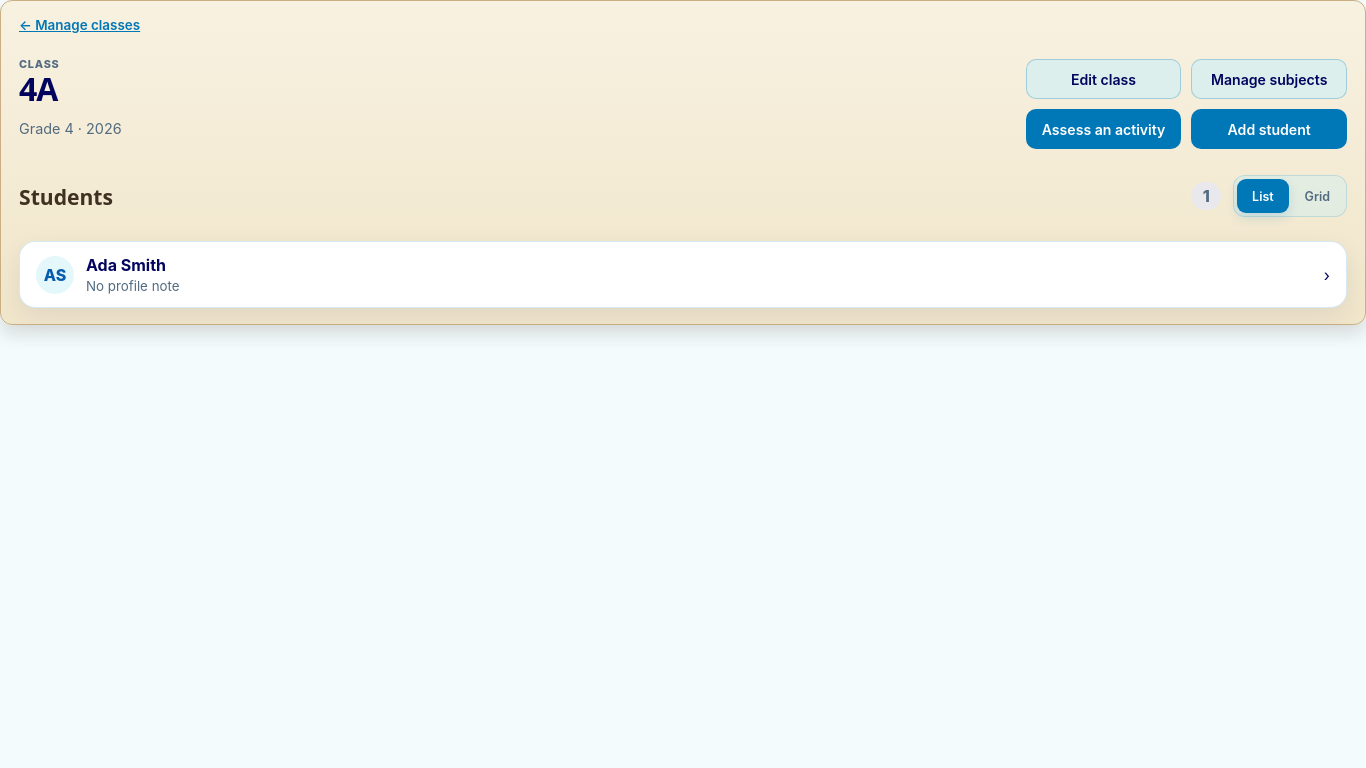
Test: edits from the class detail page and preserves the roster and class links
Click the button "Edit class". click: (1104, 79)
box: [1026,59,1181,99]
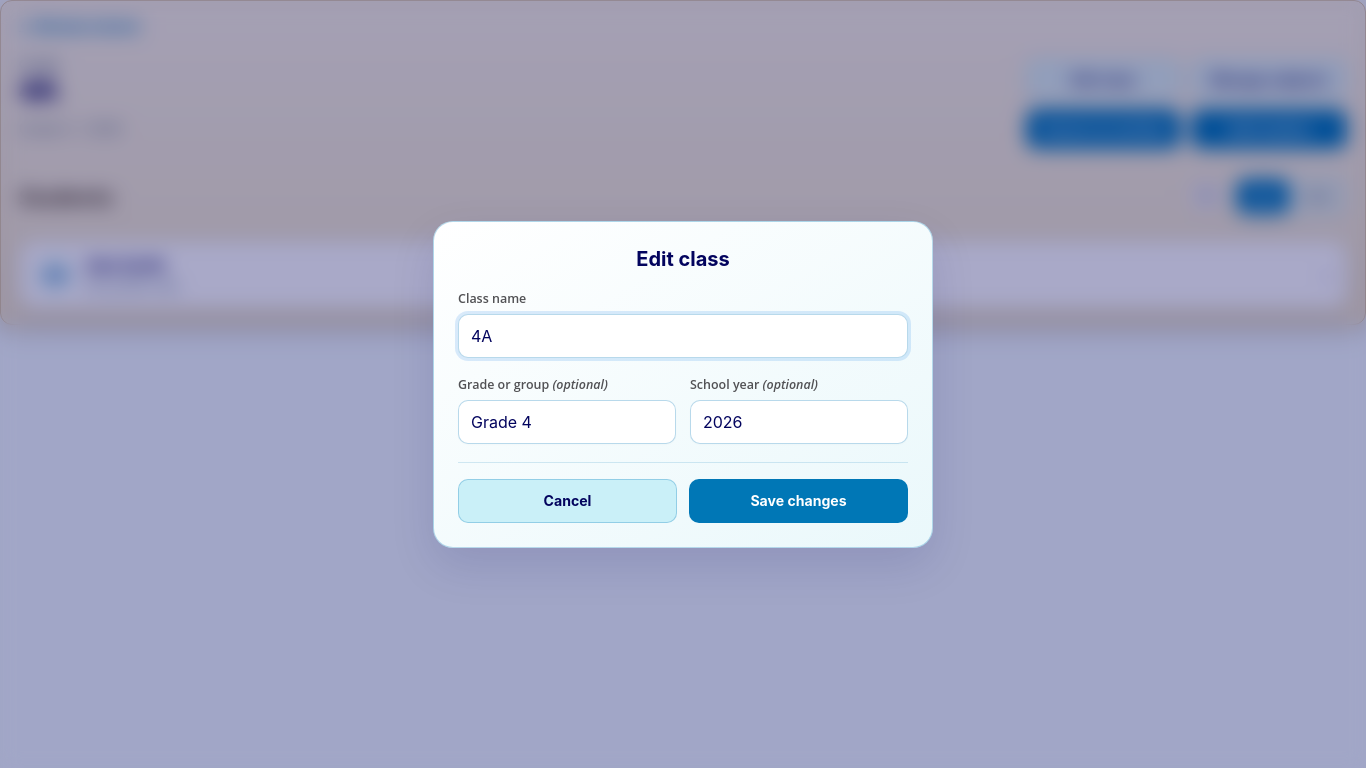
Replace the text in the field labelled "Class name" with "Renamed class". click: (683, 336)
box: [458,314,908,358]
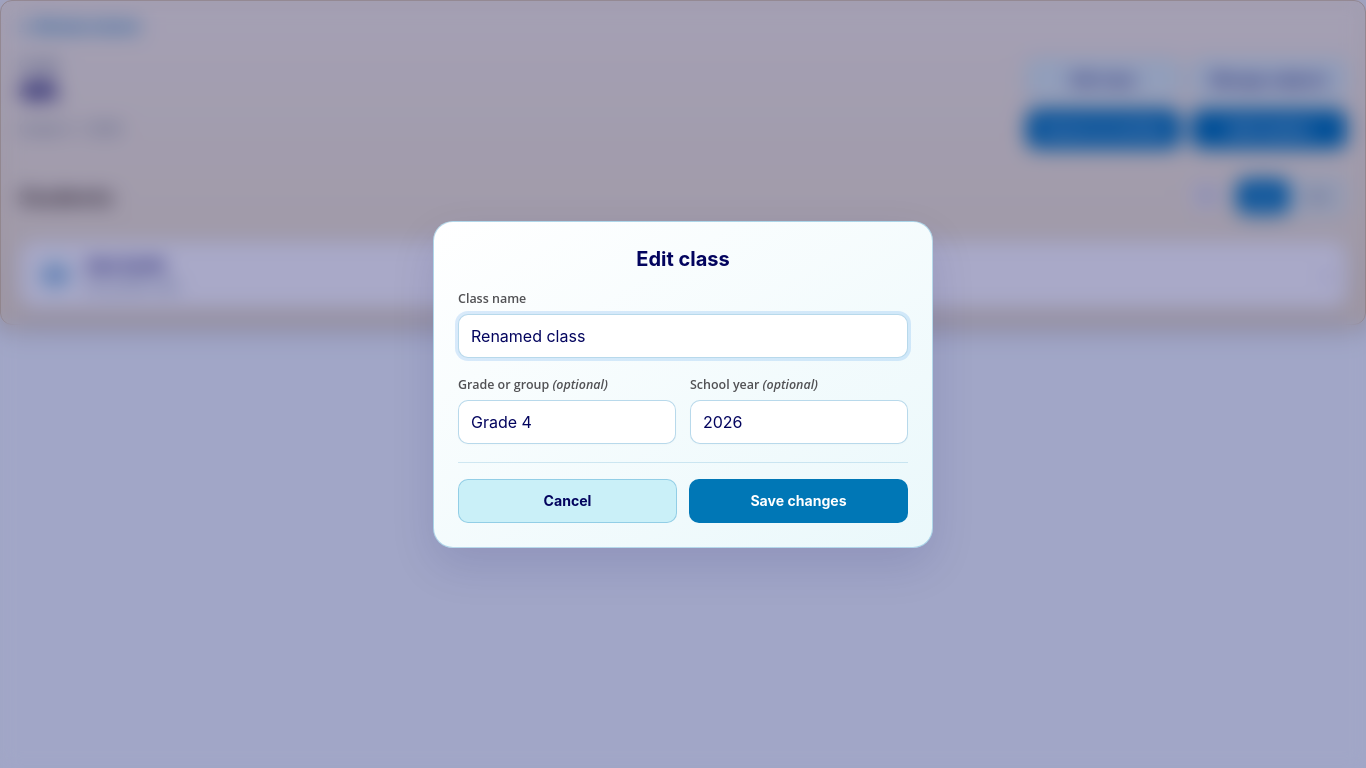
Click the button "Save changes". click: (798, 500)
box: [689,478,908,522]
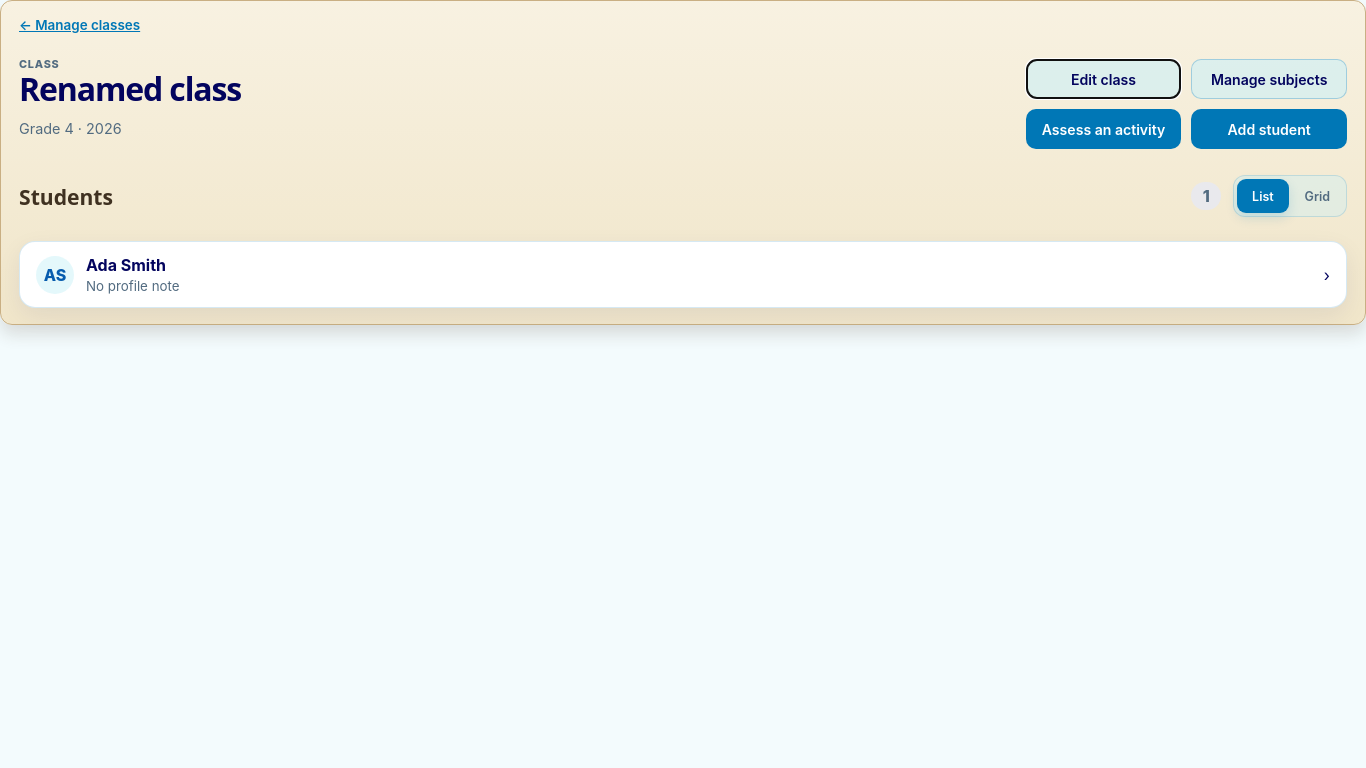
Result: the heading "Renamed class" is shown at [19,73,241,106]
